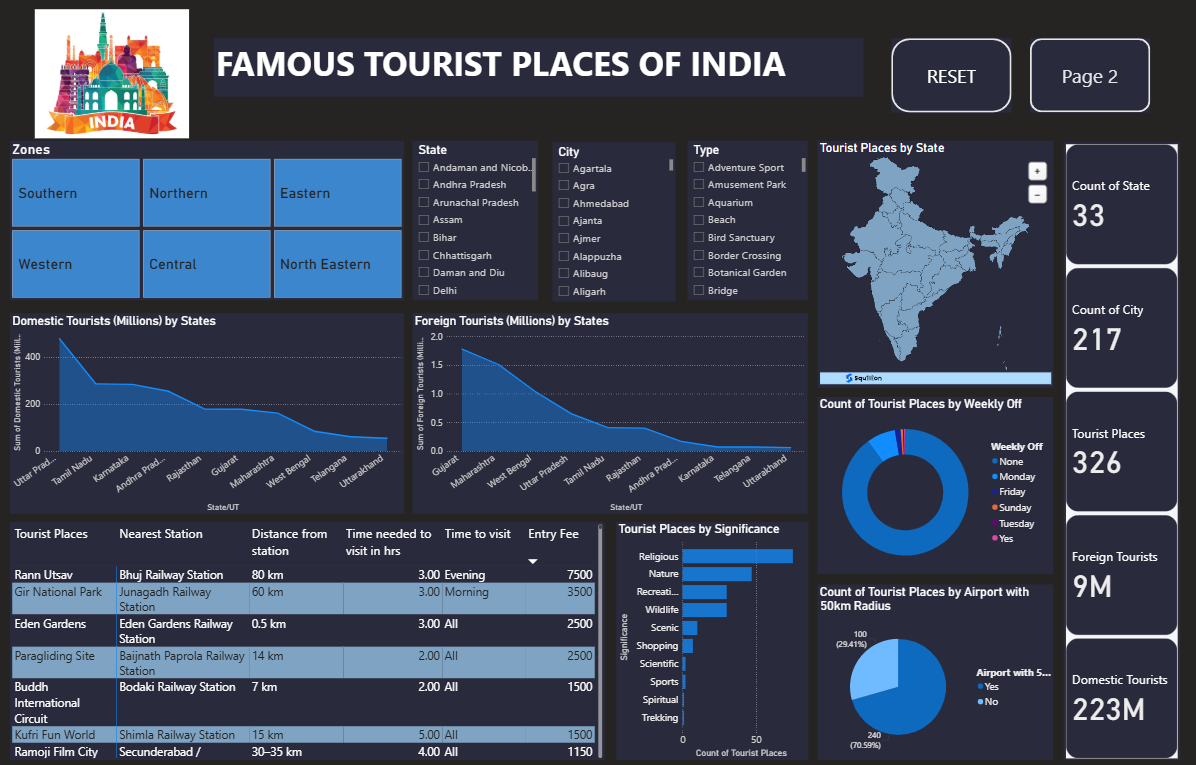

What the dashboard file says about the page in this screenshot:
{"tool":"powerbi","page":{"name":"Page 1","canvas":[2530,1630],"ordinal":0},"visuals":[{"type":"advancedSlicerVisual","title":"Zones","fields":{"Values":["Tourism_dataset.Zone"]},"box":[0,290.2,851.7,344.5],"z":0},{"type":"cardVisual","fields":{"Data":["Count(Tourism_dataset.State)","Count(Tourism_dataset.City)","Count(Tourism_dataset.Tourist Places)","Tourism_dataset.Foreign Tourists","Tourism_dataset.Domestic Tourists"]},"box":[2278.4,290.7,251.9,1339.9],"z":1000},{"type":"barChart","title":"Tourist Places by Significance","fields":{"Y":["Count(Tourism_dataset.Tourist Places)"],"Category":["Tourism_dataset.Significance"]},"box":[1310,1114.7,415,515.3],"z":2000},{"type":"slicer","fields":{"Values":["Tourism_dataset.State"]},"box":[870.6,290.2,271.2,344.5],"z":3000},{"type":"slicer","fields":{"Values":["Tourism_dataset.City"]},"box":[1171.7,292.9,265.8,344.5],"z":4000},{"type":"pivotTable","fields":{"Rows":["Tourism_dataset.Tourist Places"],"Values":["Min(Tourism_dataset.Nearest Station)","Min(Tourism_dataset.Distance from nearest station)","Sum(Tourism_dataset.time needed to visit in hrs)","Min(Tourism_dataset.Best Time to visit)","Min(Tourism_dataset.Entrance Fee in INR)"]},"box":[0,1114.7,1285.6,515.3],"z":5000},{"type":"slicer","fields":{"Values":["Tourism_dataset.Type"]},"box":[1464.6,290.2,260.4,344.5],"z":6000},{"type":"image","box":[0,0,440.3,289.4],"z":7000},{"type":"textbox","box":[440.3,66.8,1404.9,126.1],"z":8000},{"type":"pieChart","fields":{"Category":["Tourism_dataset.Airport with 50km Radius"],"Y":["CountNonNull(Tourism_dataset.Tourist Places)"]},"box":[1746.7,1247.6,509.9,382.4],"z":9000},{"type":"donutChart","fields":{"Y":["CountNonNull(Tourism_dataset.Tourist Places)"],"Category":["Tourism_dataset.Weekly Off"]},"box":[1746.7,843.5,509.9,382.4],"z":10000},{"type":"MapBySquillion","title":"Tourist Places by State","fields":{"category":["Tourism_dataset.State"],"value":["Min(Tourism_dataset.Tourist Places)"]},"box":[1746.7,290.2,509.9,531.6],"z":11000},{"type":"areaChart","title":"Domestic Tourists (Millions) by States","fields":{"Category":["Tourism_dataset.State/UT"],"Y":["Sum(Tourism_dataset.Domestic Tourists (Millions))"]},"box":[0,661.8,851.7,434],"z":12000},{"type":"areaChart","title":"Foreign Tourists (Millions) by States","fields":{"Category":["Tourism_dataset.State/UT"],"Y":["Sum(Tourism_dataset.Foreign Tourists (Millions))"]},"box":[870.6,661.8,854.4,434],"z":13000},{"type":"actionButton","box":[1904.6,66.4,260.2,160.6],"z":14000},{"type":"pageNavigator","box":[2206.4,66.4,260.2,160.6],"z":15001}]}

Visuals, with their boxes in screenshot pixels (x1, y1, x2, y2), scaled from the page's 2530x1630 canvas onto the 1196x765 screenshot:
"Zones" advancedSlicerVisual: bbox=(0, 136, 403, 298)
cardVisual - Count(Tourism_dataset.State) x Count(Tourism_dataset.City): bbox=(1077, 136, 1195, 764)
"Tourist Places by Significance" barChart: bbox=(619, 523, 815, 764)
slicer - Tourism_dataset.State: bbox=(412, 136, 540, 298)
slicer - Tourism_dataset.City: bbox=(554, 137, 680, 299)
pivotTable - Tourism_dataset.Tourist Places x Min(Tourism_dataset.Nearest Station): bbox=(0, 523, 608, 764)
slicer - Tourism_dataset.Type: bbox=(692, 136, 815, 298)
image: bbox=(0, 0, 208, 136)
textbox: bbox=(208, 31, 872, 91)
pieChart - Tourism_dataset.Airport with 50km Radius x CountNonNull(Tourism_dataset.Tourist Places): bbox=(826, 586, 1067, 764)
donutChart - CountNonNull(Tourism_dataset.Tourist Places) x Tourism_dataset.Weekly Off: bbox=(826, 396, 1067, 575)
"Tourist Places by State" MapBySquillion: bbox=(826, 136, 1067, 386)
"Domestic Tourists (Millions) by States" areaChart: bbox=(0, 311, 403, 514)
"Foreign Tourists (Millions) by States" areaChart: bbox=(412, 311, 815, 514)
actionButton: bbox=(900, 31, 1023, 107)
pageNavigator: bbox=(1043, 31, 1166, 107)
